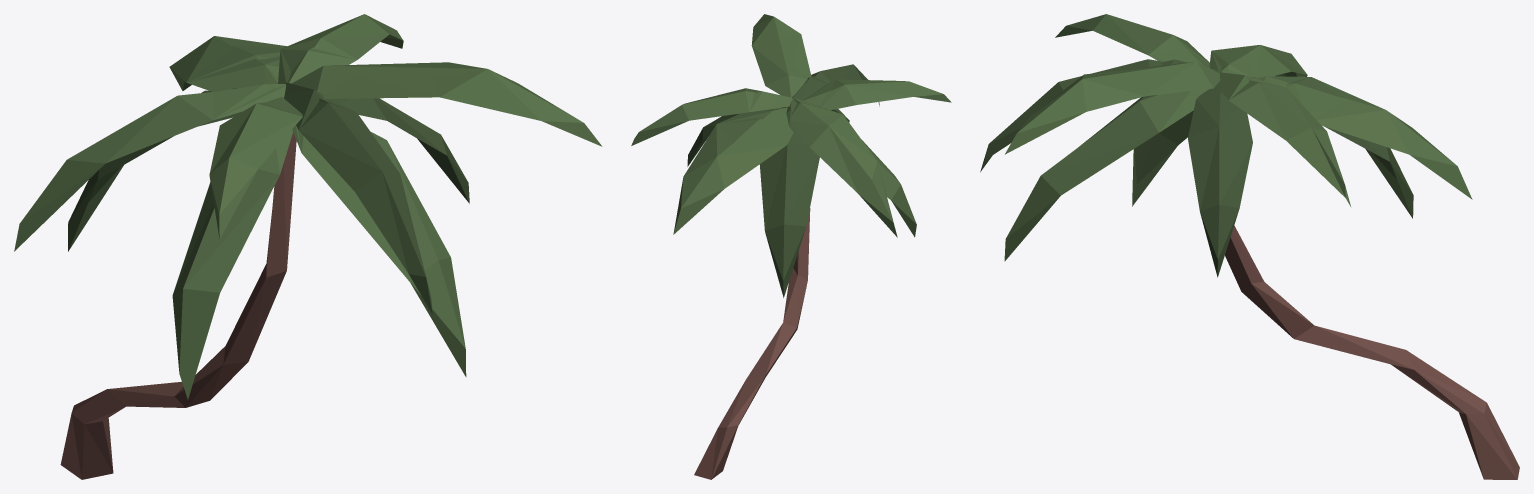
The model's file is PalmTree_2.lod2.glb.
3 views of the same model, side by side, from view 1: azimuth 30°, elevation 25°; view 2: azimuth 150°, elevation 25°; view 3: azimuth 270°, elevation 25° (orthographic). The views are drawn at different scales.
Visible parts, largest first — view 1: PalmTree_2; view 2: PalmTree_2; view 3: PalmTree_2.
Boxes of the visible parts, x1,y1,x2,y2 form: PalmTree_2: (14, 14, 602, 479); PalmTree_2: (631, 14, 951, 479); PalmTree_2: (980, 14, 1519, 479).
Bounding box in the file's own units: 2.33 × 2.92 × 3.16.
